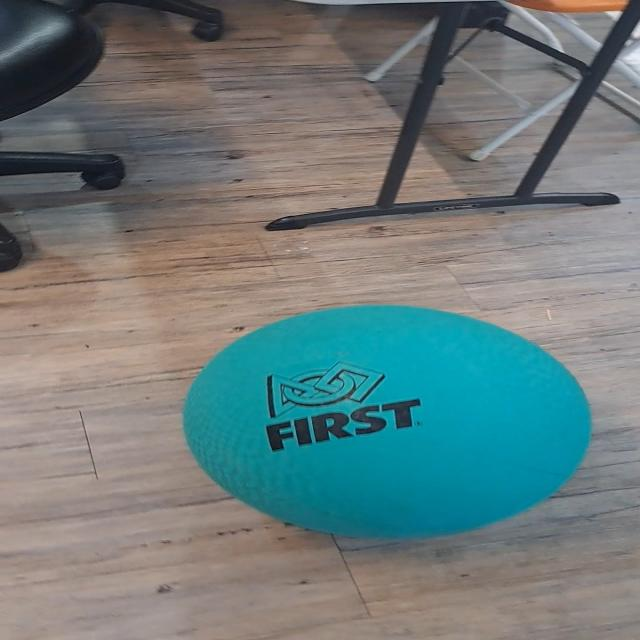ALGAE: (179, 302, 593, 541)
